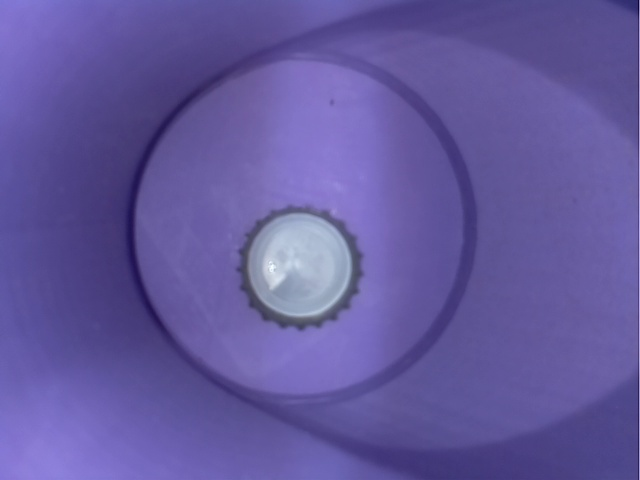capsule: (228, 206, 372, 334)
